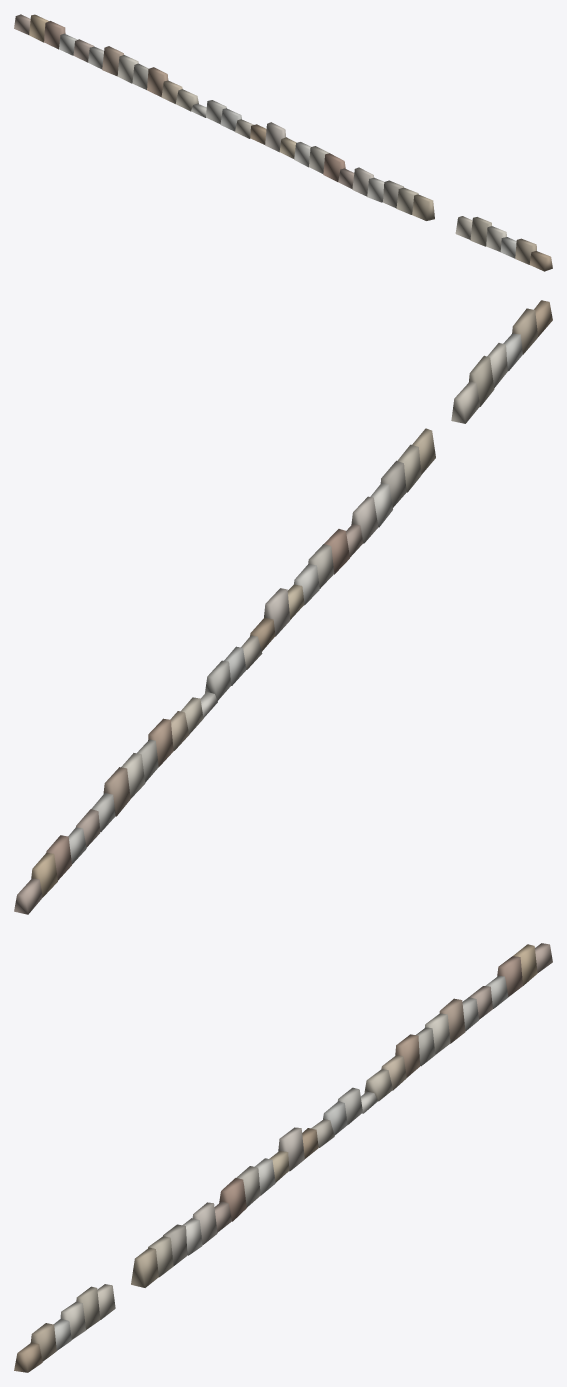
Rendered from farm_0_-4_far.glb.
3 renders of one model, top to bottom at view 1: azimuth 30°, elevation 25°; view 2: azimuth 150°, elevation 25°; view 3: azimuth 330°, elevation 25°, orthographic. The views are drawn at different scales.
Parts seen in each view (by area): view 1: geometry_0; view 2: geometry_0; view 3: geometry_0.
Boxes of the visible parts, <box> form: geometry_0: <box>14,14,552,271</box>; geometry_0: <box>14,300,552,914</box>; geometry_0: <box>14,943,552,1372</box>.
Bounding box in the file's own units: 6.78 × 5.57 × 56.46.
